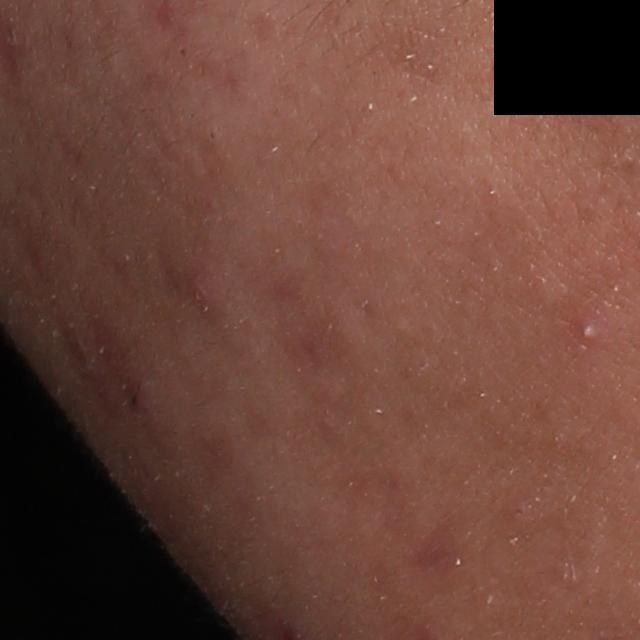papule: (181, 251, 221, 307)
pustule: (578, 323, 598, 343)
